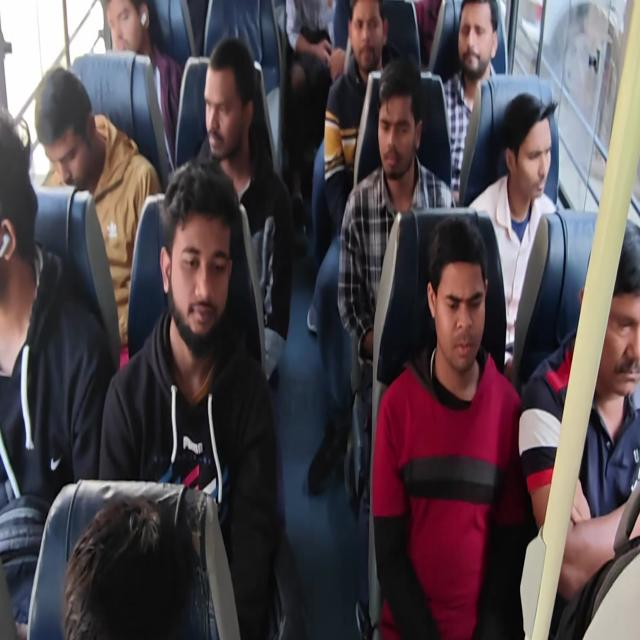person: (65, 500, 210, 640), (576, 214, 640, 411), (157, 197, 240, 342), (419, 231, 497, 377), (0, 111, 55, 303), (24, 88, 112, 195), (193, 48, 262, 154), (499, 94, 559, 198), (443, 0, 499, 79), (372, 82, 418, 174), (336, 0, 383, 72), (96, 0, 146, 65)
